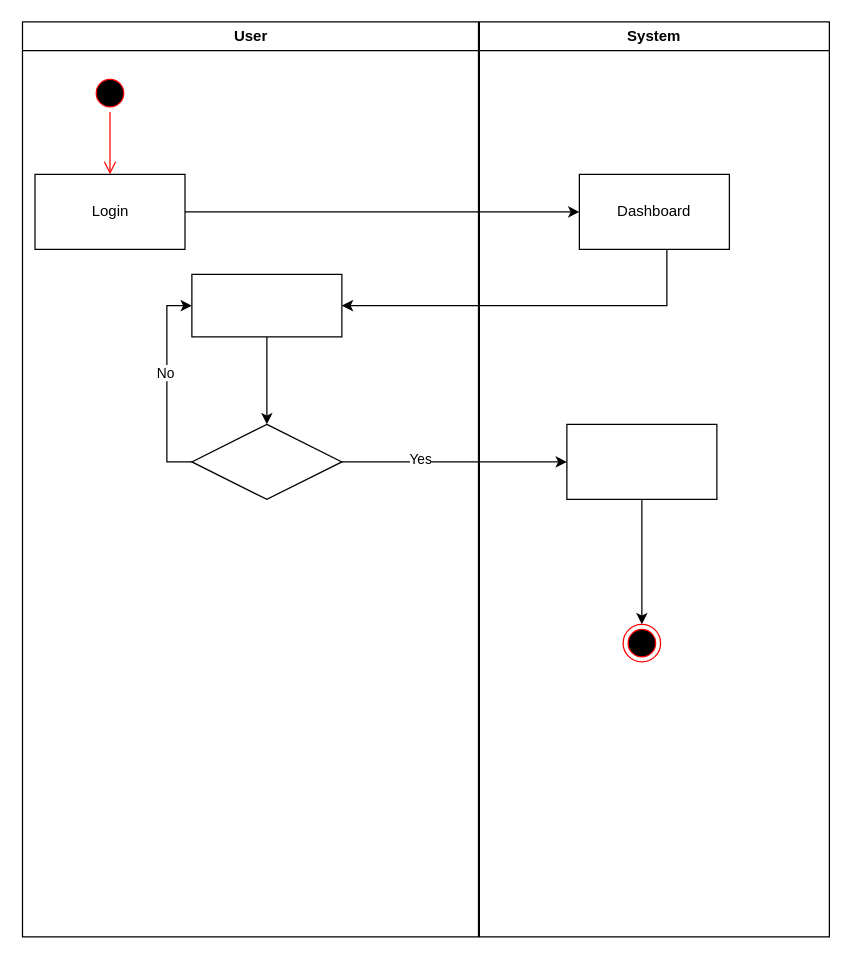
This 851x959 diagram has some shape labels left out. Each missing label, with the centre of its shape:
Pilih Menu project: point (266, 305)
View menu project: point (641, 461)
